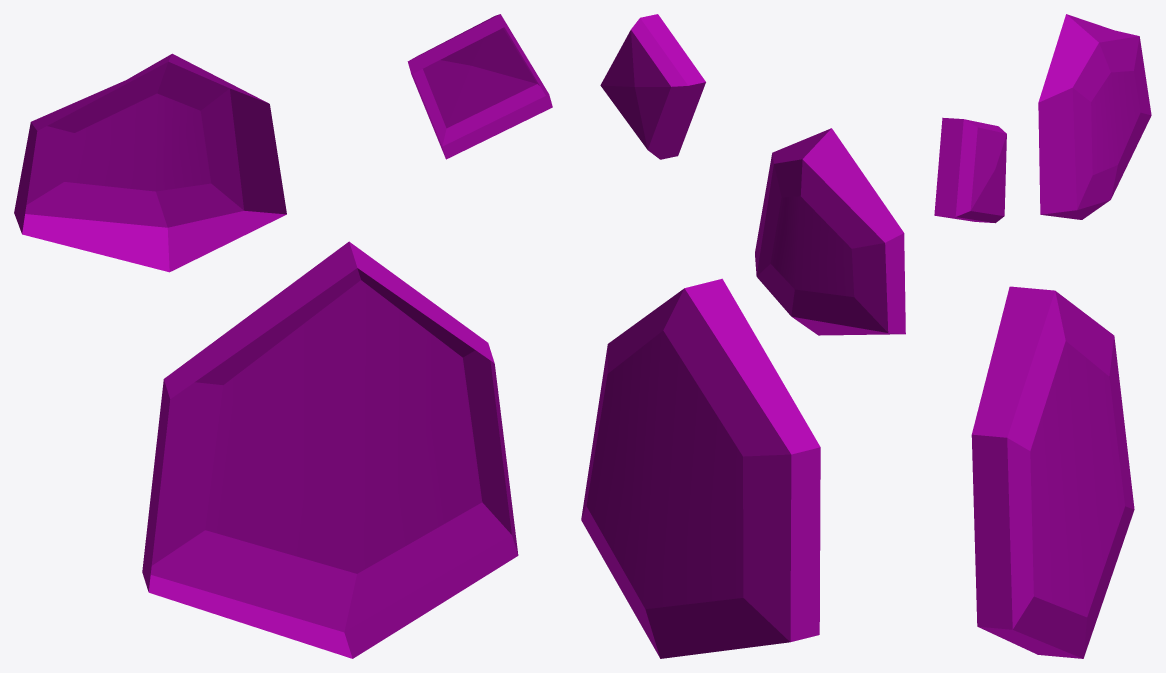
The model's file is Crystal_Slabs.fbx.
3 renders of one model, left to right at view 1: azimuth 30°, elevation 25°; view 2: azimuth 150°, elevation 25°; view 3: azimuth 270°, elevation 25°, orthographic. The views are drawn at different scales.
Visible parts, largest first — view 1: Crystal_Slabs; view 2: Crystal_Slabs; view 3: Crystal_Slabs.
Part boxes in pixels (<box>): Crystal_Slabs: <box>14,14,552,658</box>; Crystal_Slabs: <box>581,14,905,658</box>; Crystal_Slabs: <box>934,14,1151,658</box>.
Bounding box in the file's own units: 1.36 × 1.95 × 0.6592.
